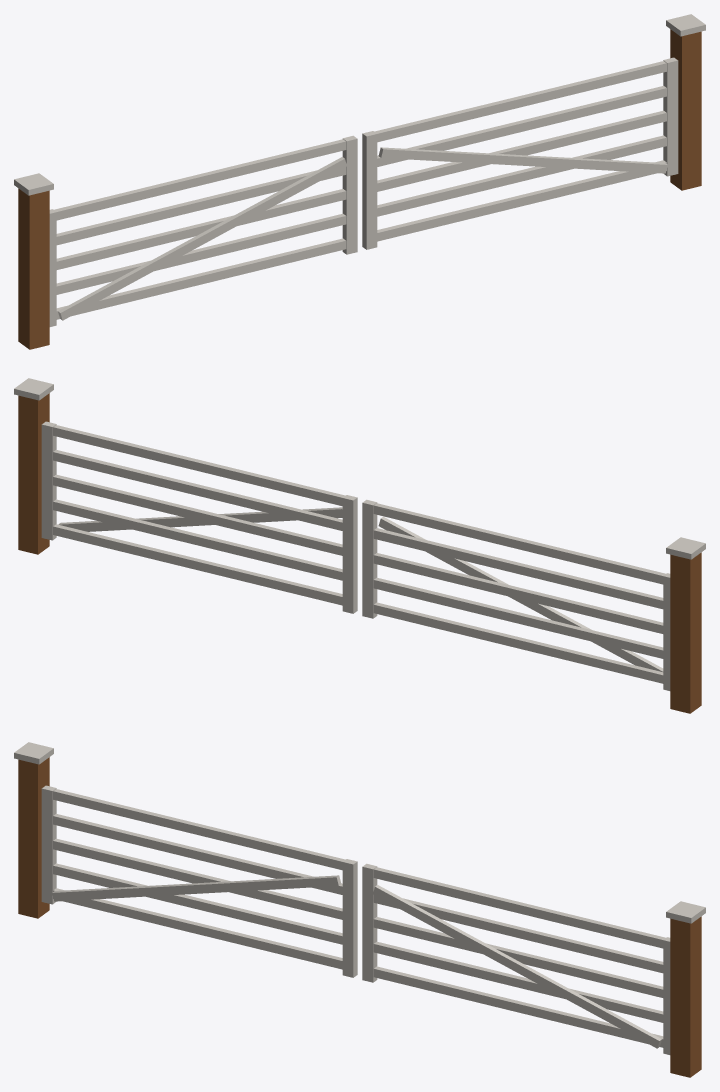
The model's file is gate.glb.
3 renders of one model, top to bottom at view 1: azimuth 30°, elevation 25°; view 2: azimuth 150°, elevation 25°; view 3: azimuth 330°, elevation 25°, orthographic.
Parts seen in each view (by area): view 1: leaf_L_bars, leaf_R_bars, post_poles, leaf_R_brace, leaf_L_stiles, leaf_L_brace, leaf_R_stiles, post_caps; view 2: leaf_L_bars, leaf_R_bars, post_poles, leaf_L_stiles, leaf_R_stiles, leaf_R_brace, leaf_L_brace, post_caps; view 3: leaf_R_bars, leaf_L_bars, post_poles, leaf_L_brace, leaf_R_stiles, leaf_R_brace, leaf_L_stiles, post_caps.
Part boxes in pixels (x1,y1,x2,y2): leaf_L_bars: (363,61,666,242); leaf_R_bars: (54,139,346,319); post_poles: (18,29,701,349); leaf_R_brace: (58,157,346,320); leaf_L_stiles: (362,57,678,249); leaf_L_brace: (378,147,667,173); leaf_R_stiles: (49,135,357,326); post_caps: (14,14,705,195); leaf_L_bars: (53,425,356,606); leaf_R_bars: (373,503,665,683); post_poles: (18,393,701,713); leaf_L_stiles: (41,421,357,613); leaf_R_stiles: (362,499,670,690); leaf_R_brace: (378,516,663,671); leaf_L_brace: (58,507,342,531); post_caps: (14,378,705,559); leaf_R_bars: (53,789,356,970); leaf_L_bars: (373,867,665,1047); post_poles: (18,757,701,1077); leaf_L_brace: (373,885,661,1048); leaf_R_stiles: (41,785,357,977); leaf_R_brace: (52,875,341,901); leaf_L_stiles: (362,863,670,1054); post_caps: (14,742,705,923).
Size of the model in its own units: 7.5 by 1.71 by 0.28.
